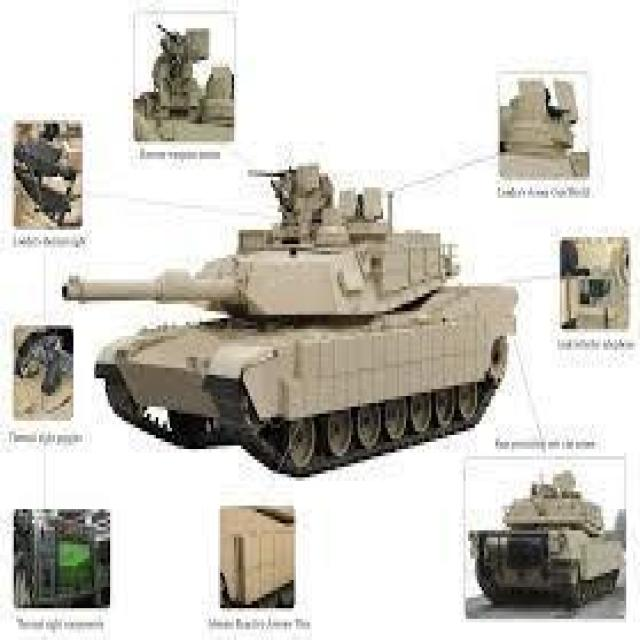Tanks: (76, 164, 491, 468), (469, 463, 623, 622), (492, 53, 598, 184), (132, 16, 233, 147), (9, 115, 90, 232), (556, 228, 637, 341), (14, 312, 78, 432)
